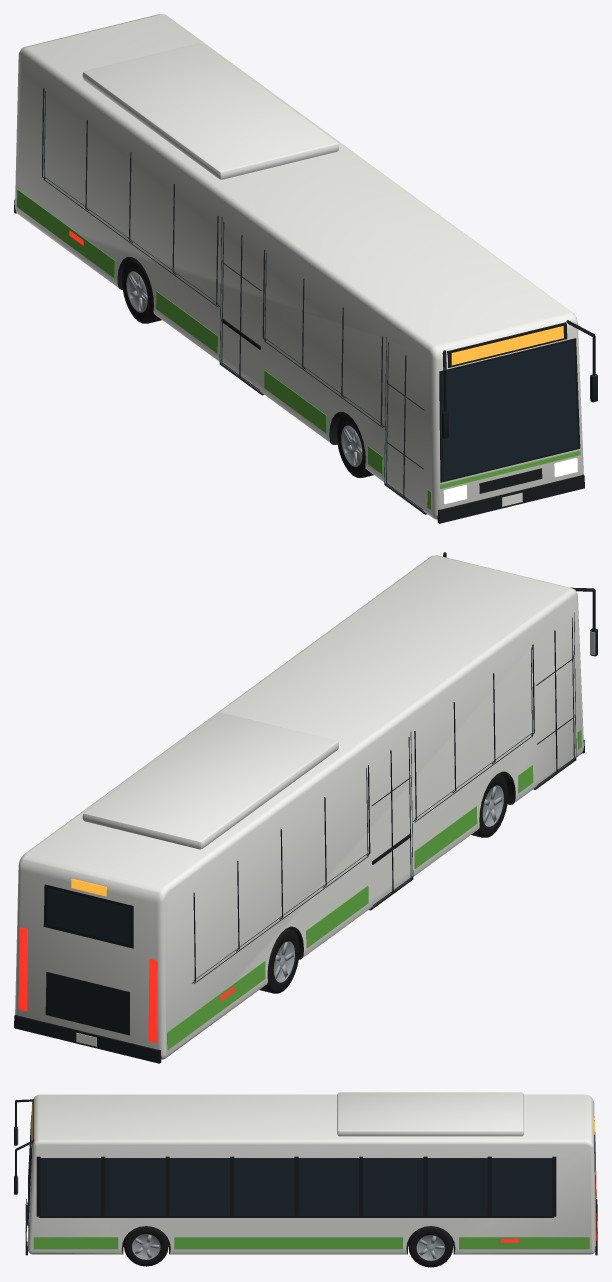
File: bus.glb
The picture shows the model from 3 angles, top to bottom: view 1: azimuth 30°, elevation 25°; view 2: azimuth 150°, elevation 25°; view 3: azimuth 270°, elevation 25°; orthographic projection. The views are drawn at different scales.
Visible parts, largest first — view 1: body, wheel_rr, wheel_fr; view 2: body, wheel_rr, wheel_fr; view 3: body, wheel_rl, wheel_fl.
Part boxes in pixels (x1,y1,x2,y2): body: (14,14,597,523); wheel_rr: (121,258,161,323); wheel_fr: (336,413,373,477); body: (14,552,597,1063); wheel_rr: (259,928,299,993); wheel_fr: (471,773,508,837); body: (14,1092,597,1255); wheel_rl: (408,1226,453,1267); wheel_fl: (124,1226,168,1266).
Bounding box in the file's own units: 2.58 × 3.14 × 12.52.
